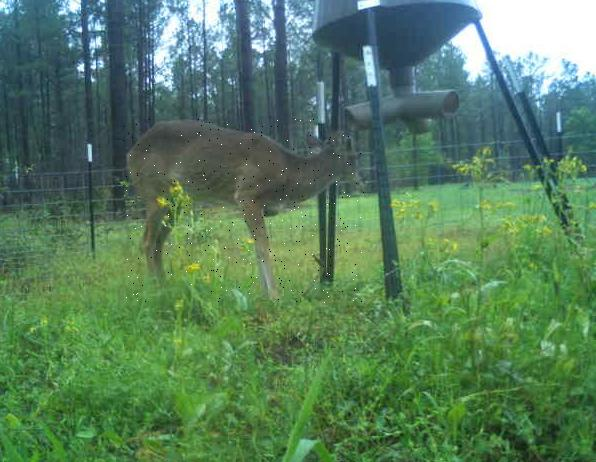Deer: (123, 120, 364, 305)
